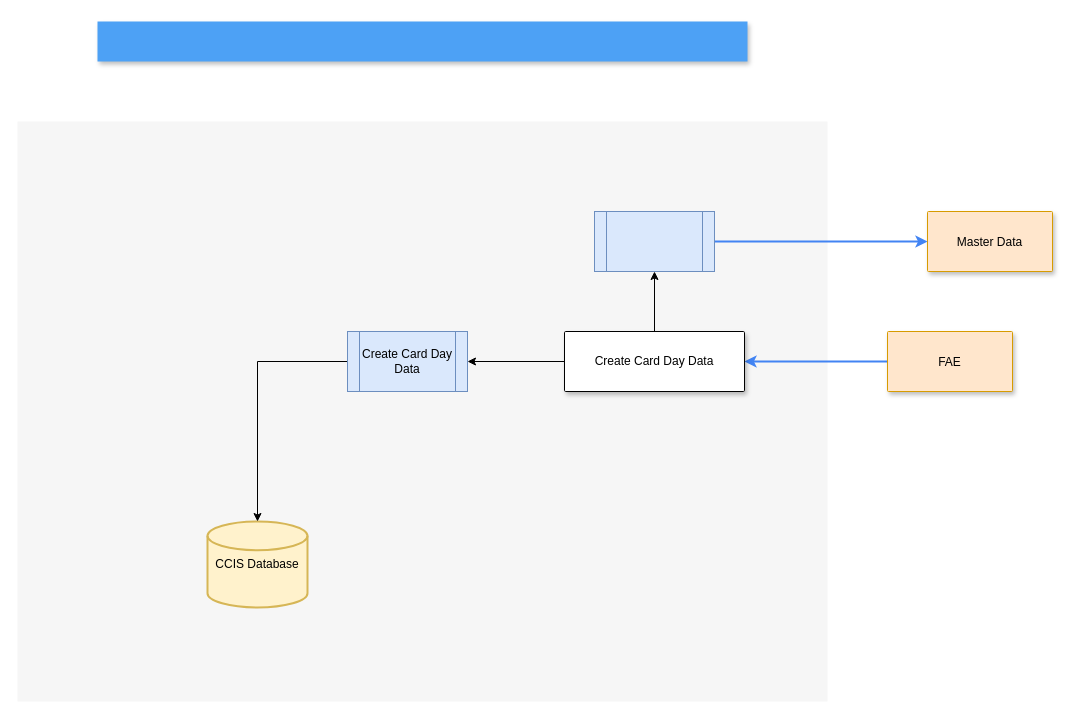
The diagram is 1076 pixels wide and 718 high, and some of its shapes have lost their labels. The shapes that lost their labels are listed below. From the top down, each one's centre as x and y in pixels, then its label:
the point at 423,42: Data Flow: CCIS API
the point at 654,241: Get fare mappings
